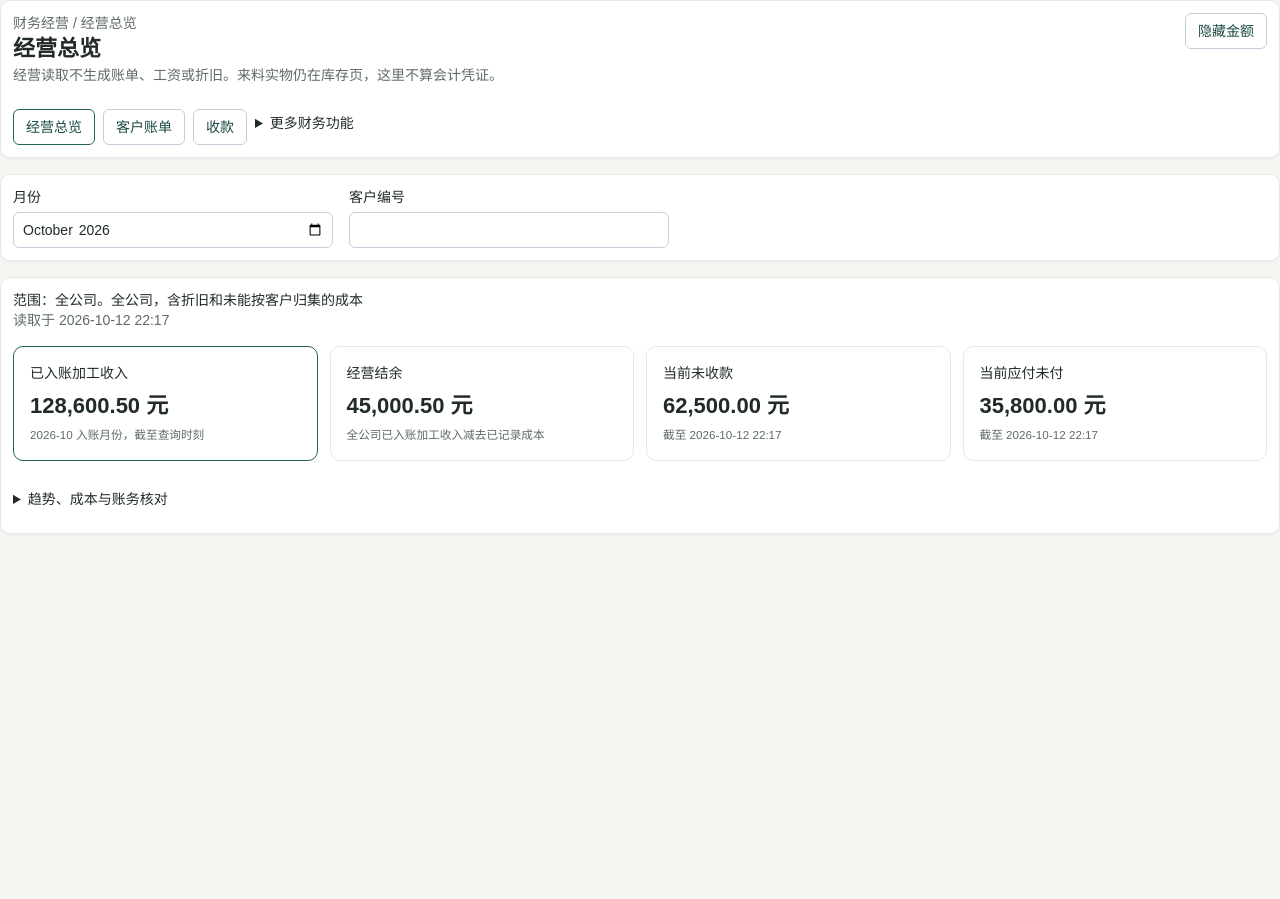
Test: FinanceWorkspace › 收款成功后查询失败时保留单号，并只重试查询
Click the button "收款". click: (220, 128)
box: x1=193 y1=110 x2=247 y2=146
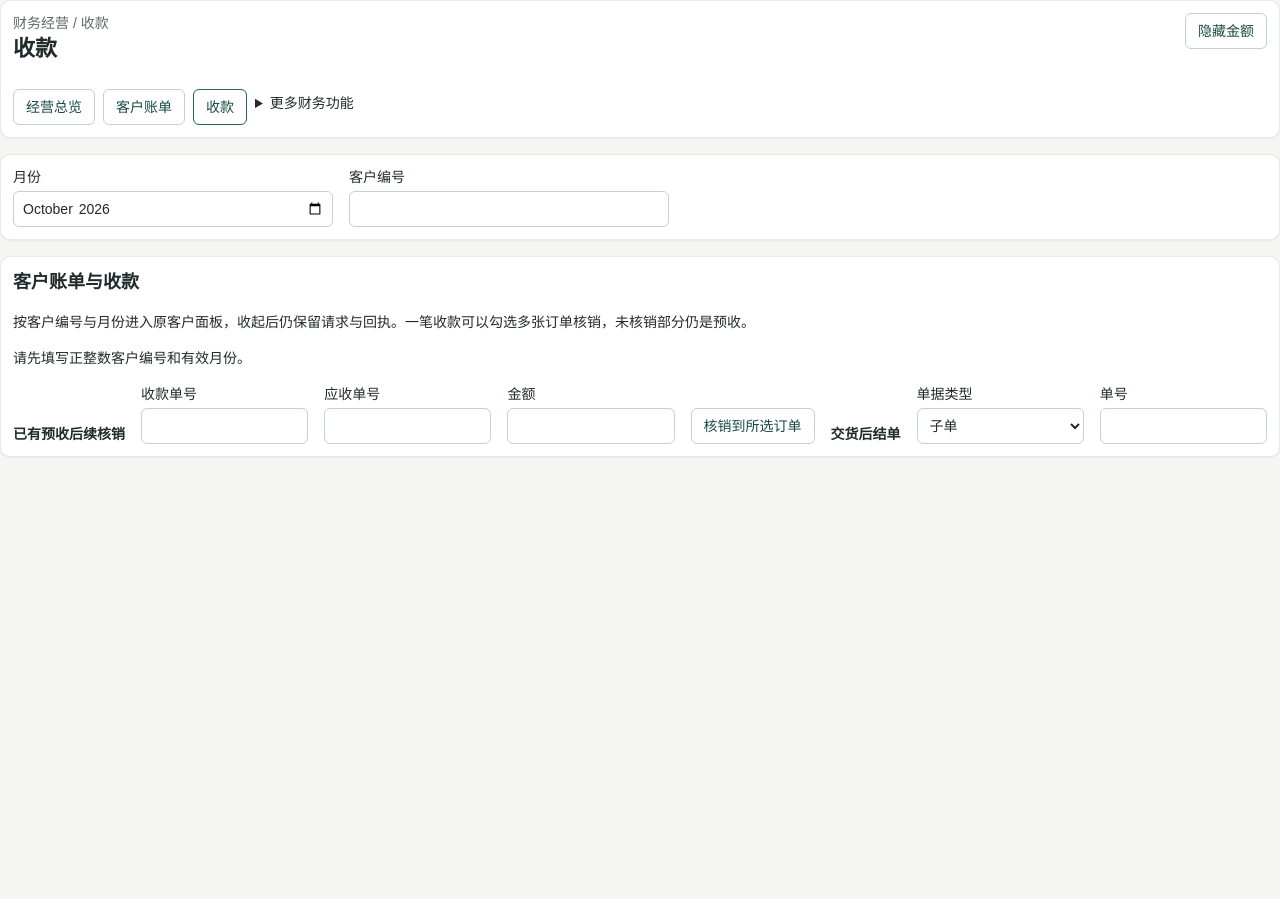
Type "1008" into the field named "客户编号". click: (509, 210)
box: x1=349 y1=192 x2=669 y2=228
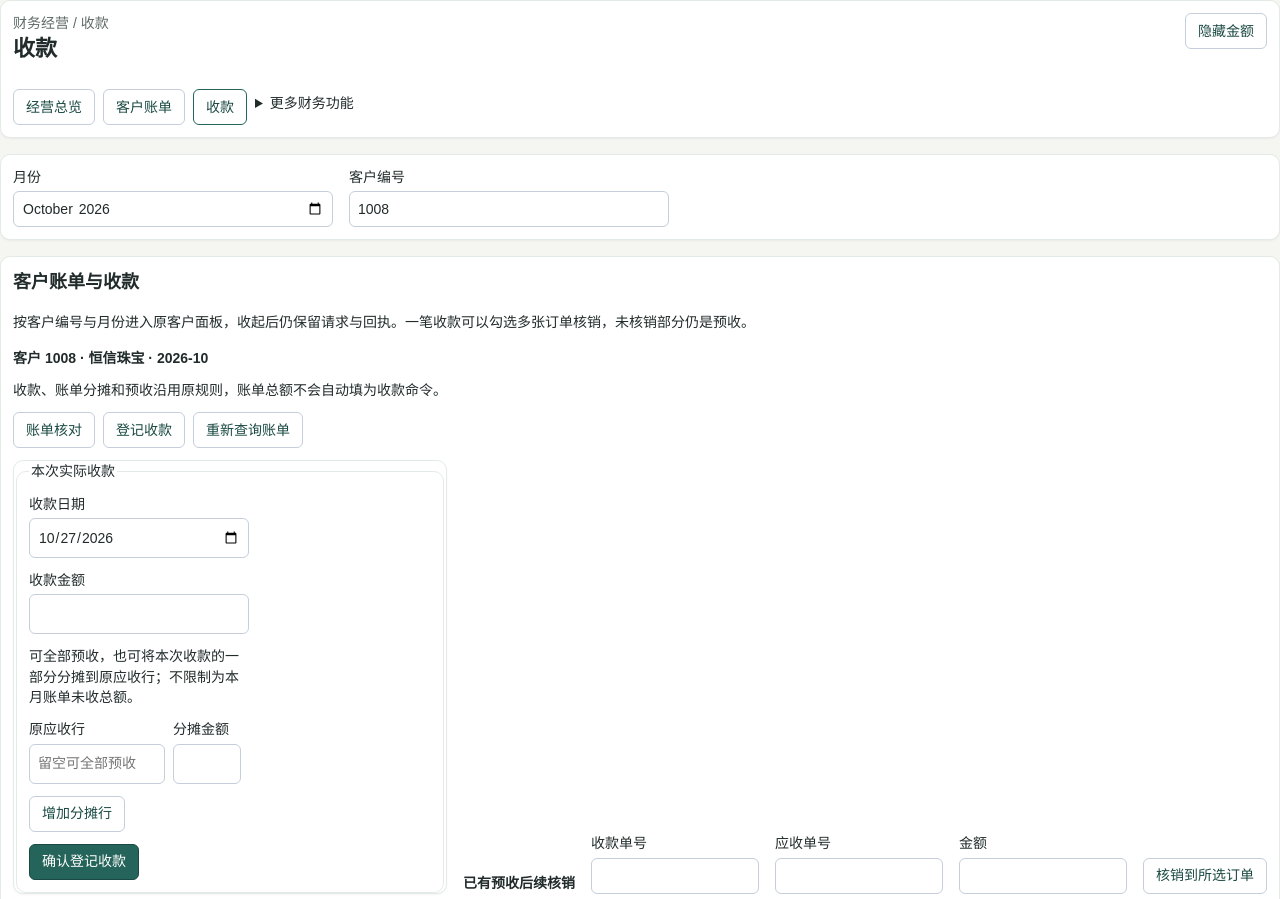
Type "80" into the field named "收款金额". click: (139, 614)
box: x1=29 y1=594 x2=249 y2=634
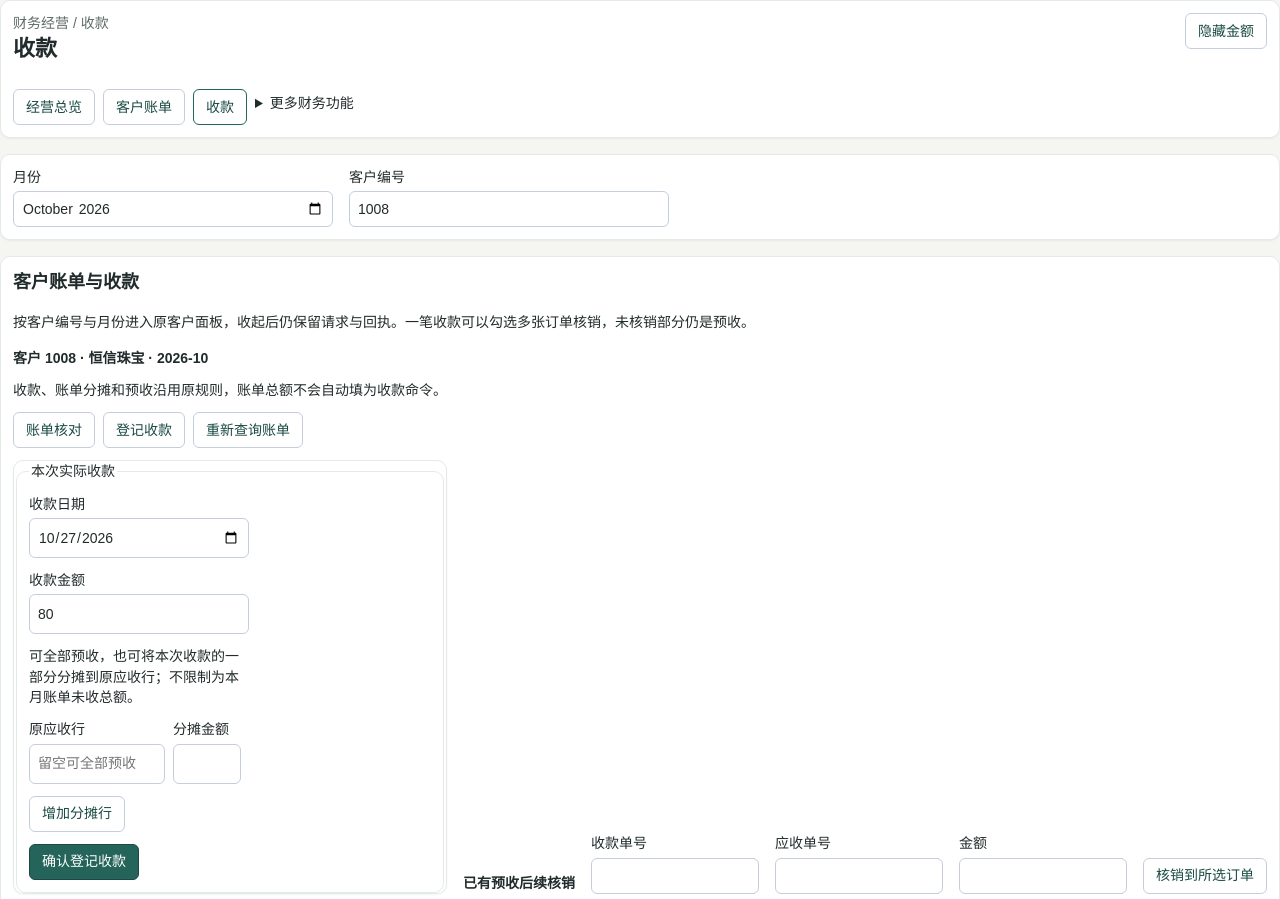
Type "2026-10-10" into the date field named "收款日期". click: (139, 538)
box: x1=29 y1=518 x2=249 y2=558
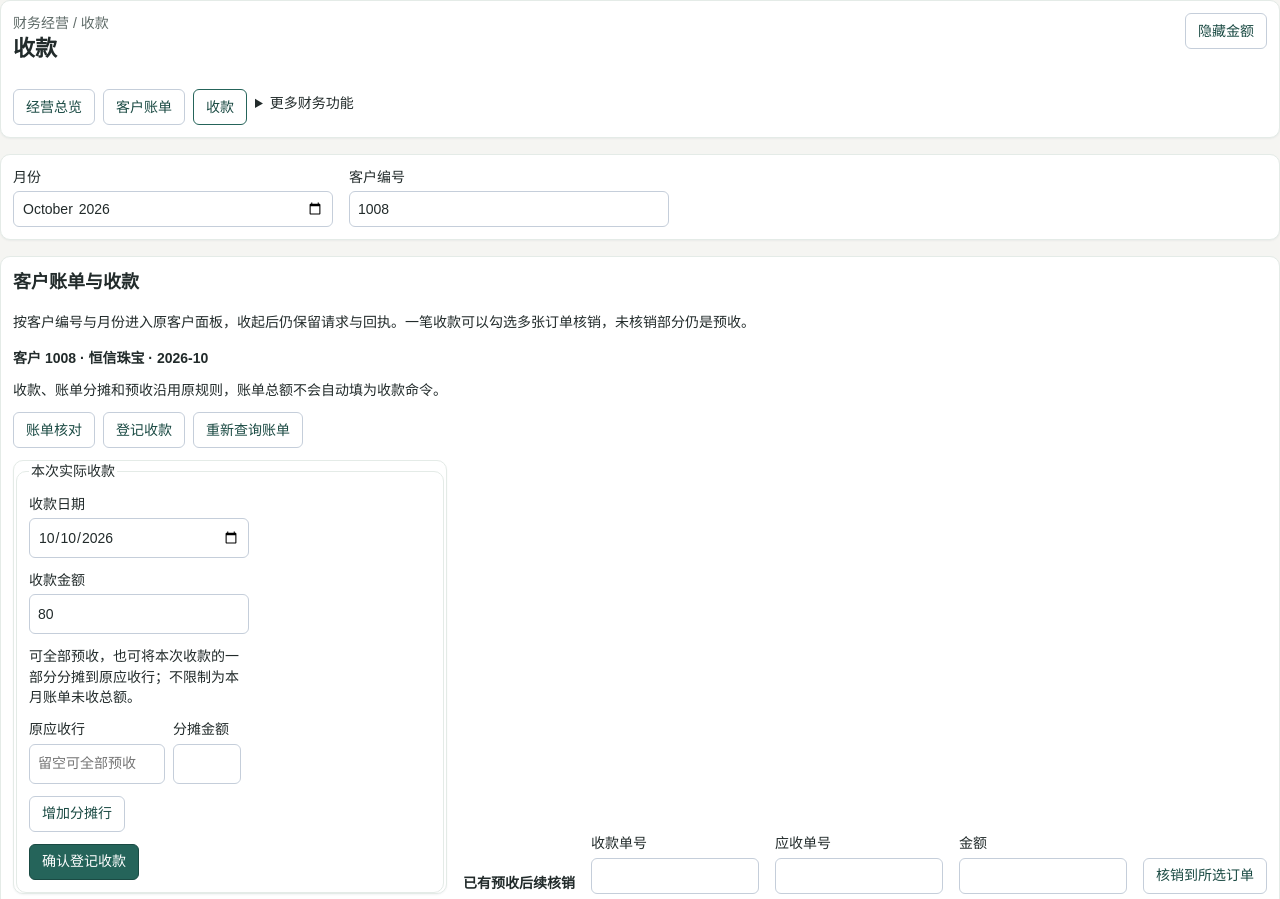
Click the button "确认登记收款". click: (84, 862)
box: x1=29 y1=844 x2=139 y2=880
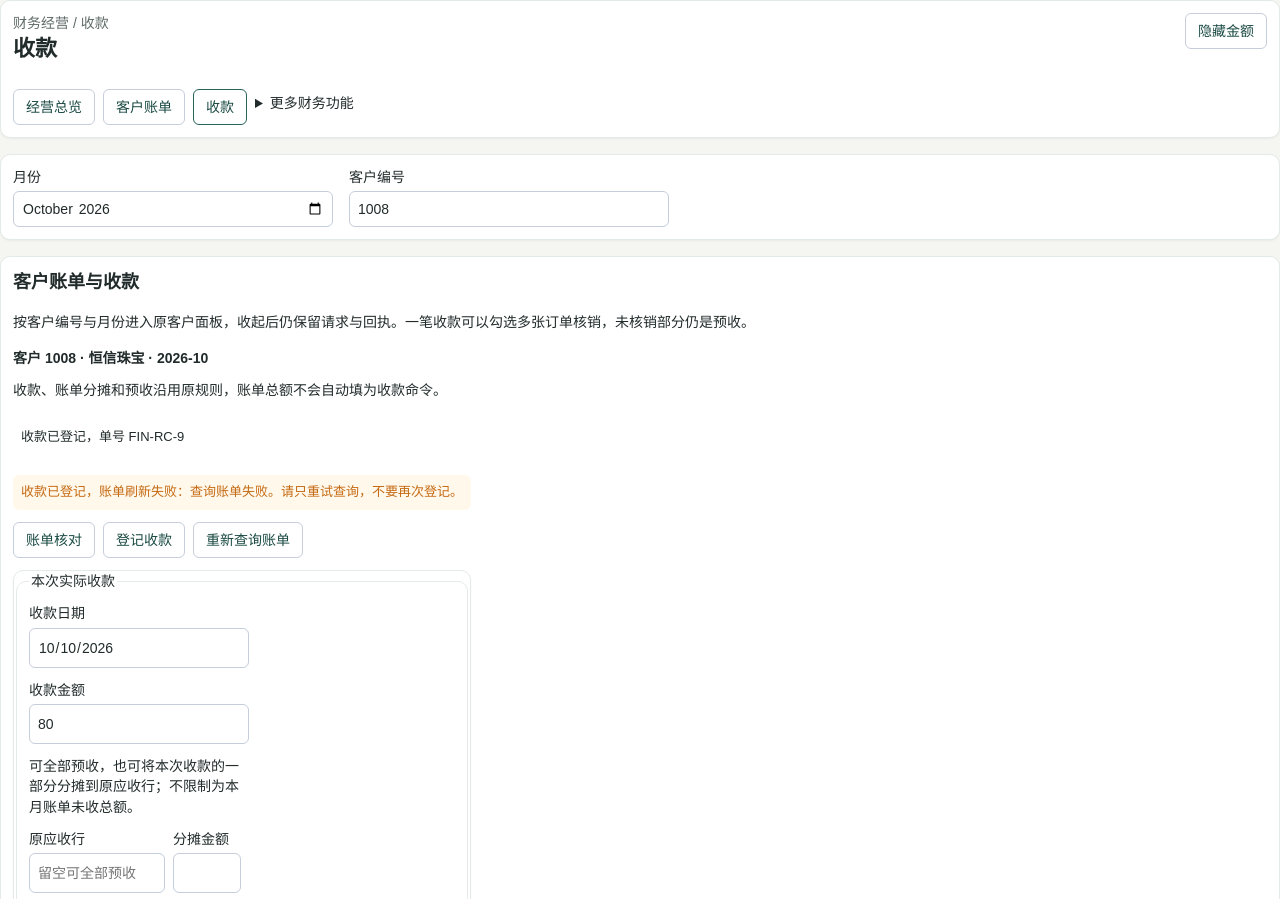
Now the text "请只重试查询，不要再次登记" is shown, box x1=21 y1=484 x2=463 y2=499
Click the button "重新查询账单". click: (248, 540)
box: x1=193 y1=522 x2=303 y2=558
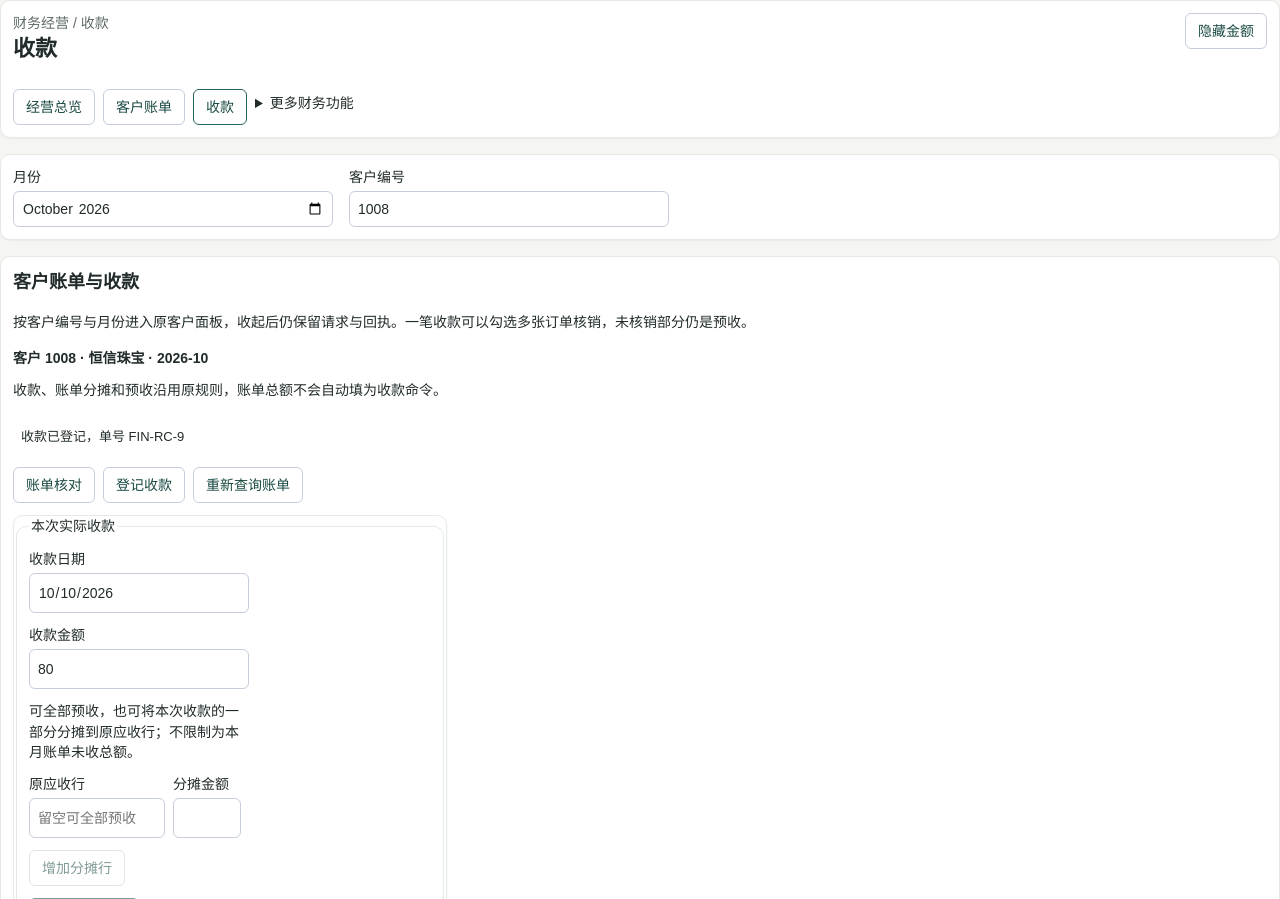
Now the text "请只重试查询，不要再次登记" is gone
